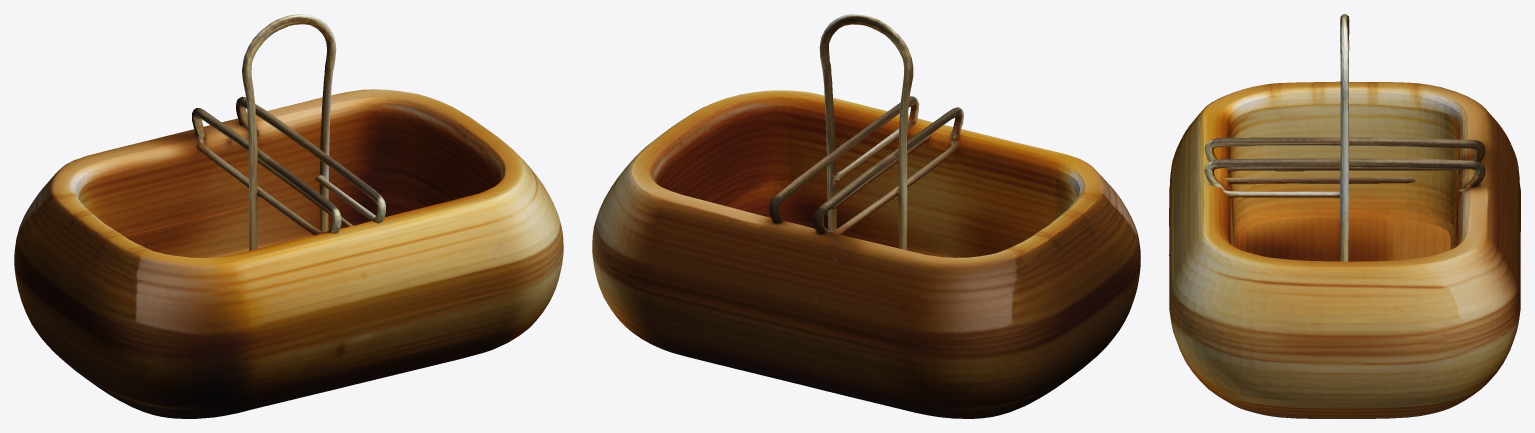
Rendered from bamboo-paperclip-holder-vintage.jpeg.glb.
3 views of the same model, side by side, from view 1: azimuth 30°, elevation 25°; view 2: azimuth 150°, elevation 25°; view 3: azimuth 270°, elevation 25° (orthographic). The views are drawn at different scales.
Visible parts, largest first — view 1: world; view 2: world; view 3: world.
Boxes of the visible parts, left/top/right/bottom form: world: left=14, top=14, right=563, bottom=418; world: left=592, top=14, right=1140, bottom=418; world: left=1169, top=14, right=1520, bottom=418.
Bounding box in the file's own units: 0.9999 × 0.7025 × 0.6886.
Materials: 1 (1 with a texture image).
